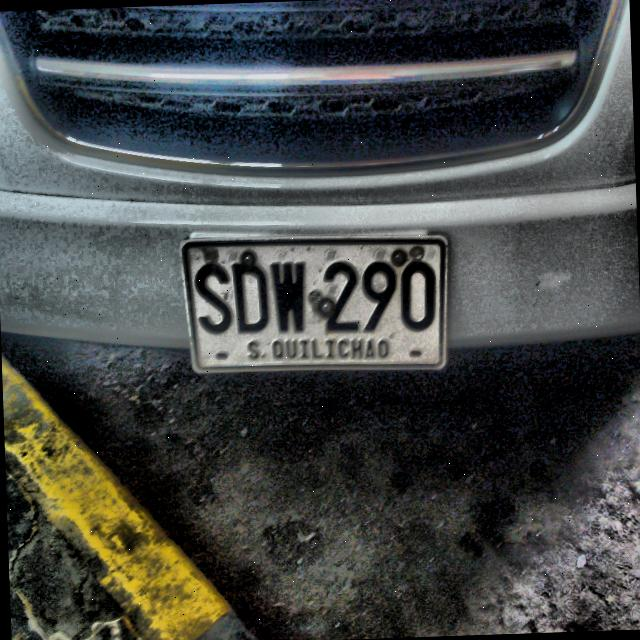plate: (178, 235, 449, 375)
